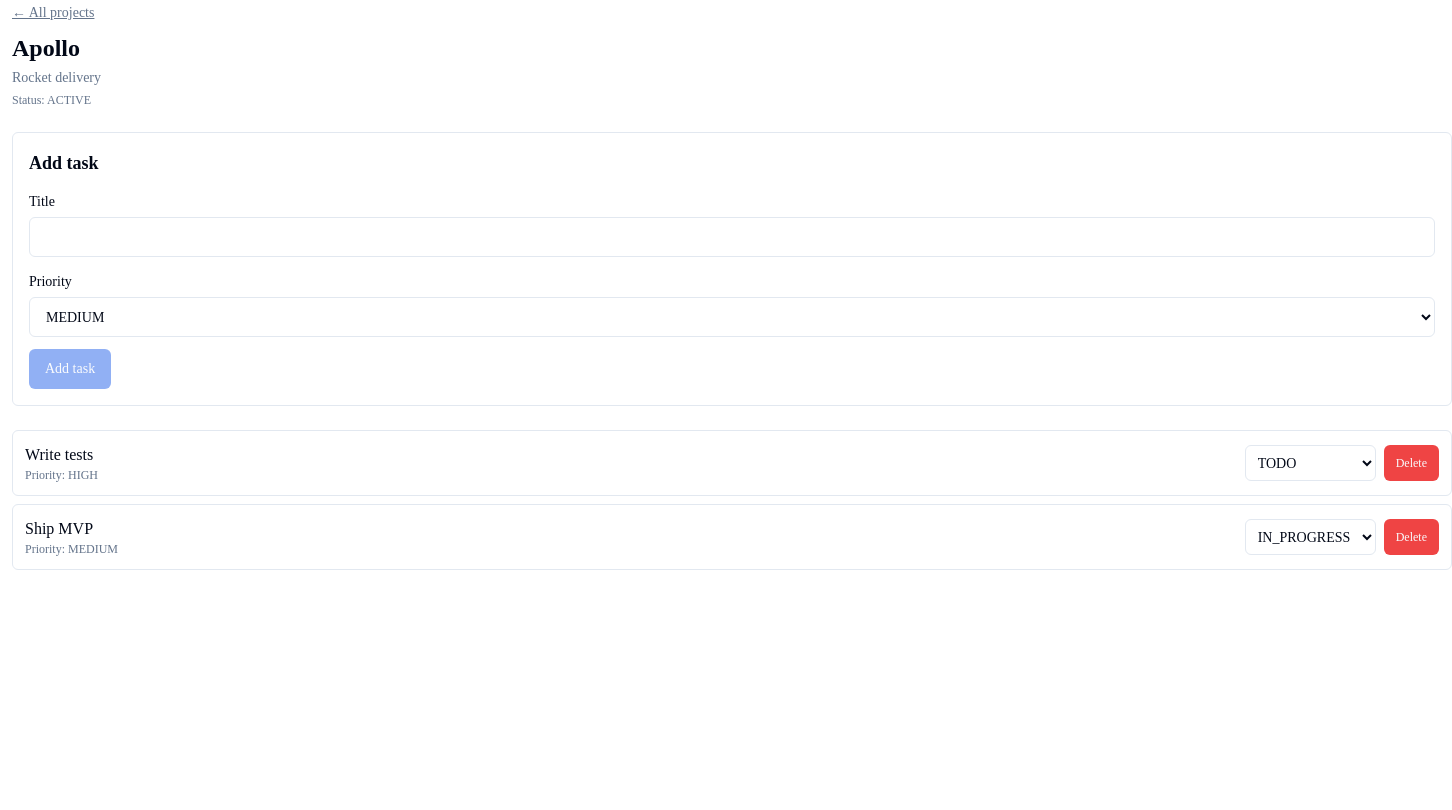
Test: ProjectDetail › shows error banner when delete fails
Step 1. Click the button with test id "project-task-delete" → coordinates (1411, 463), box [1384,445,1439,481]
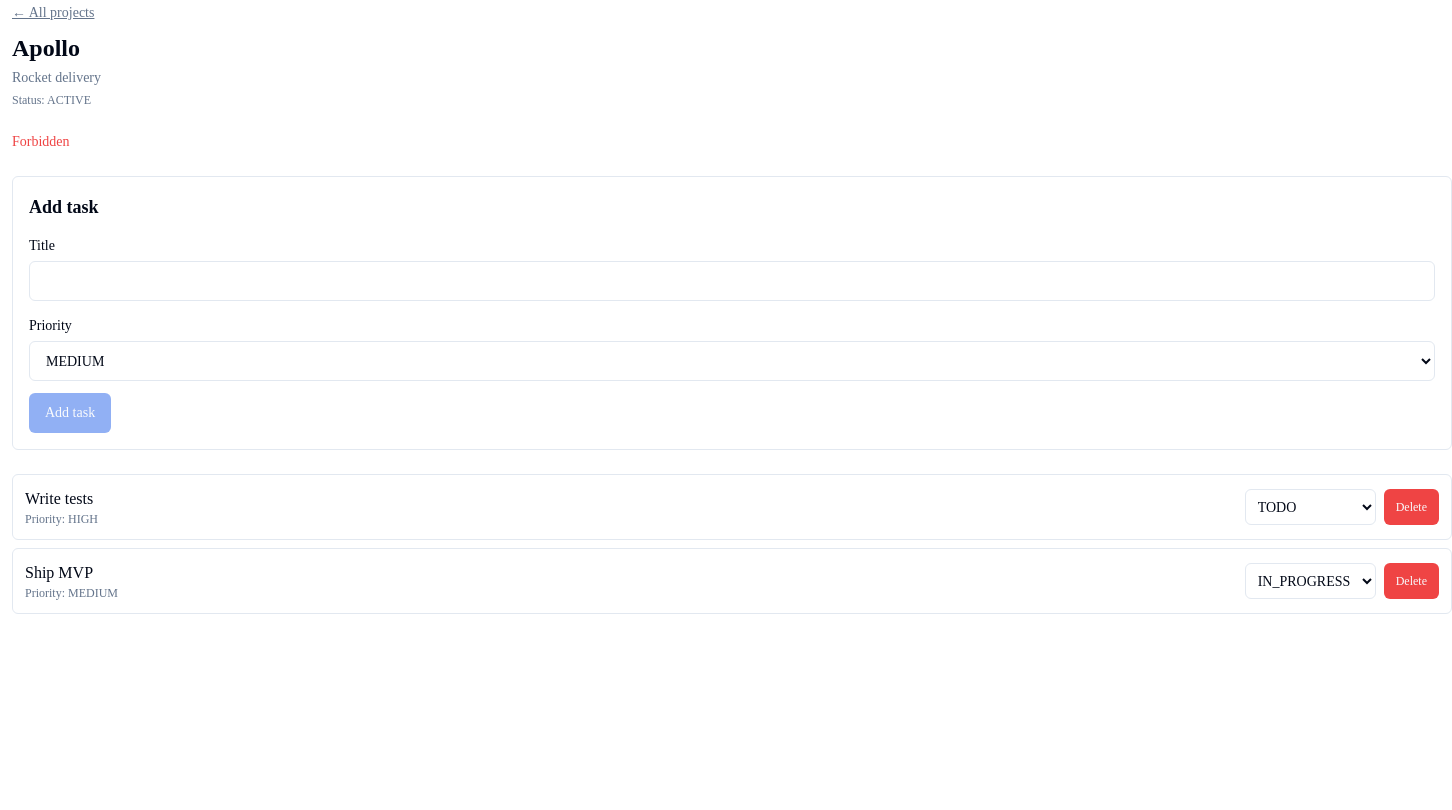
Check: the number of list items with test id "project-task-row" is 2, box [12,474,1451,540]; [12,548,1451,614]
Check: the text with test id "project-error" reads "Forbidden", box [12,134,70,149]
